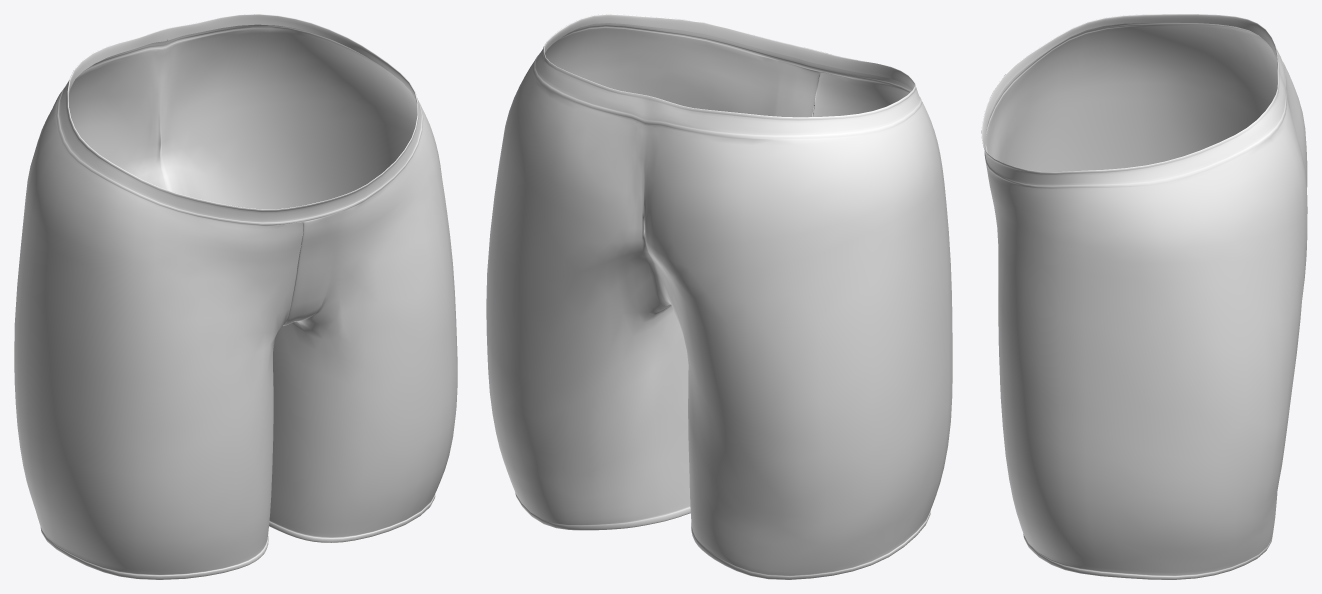
The model's file is Shorts.glb.
3 renders of one model, left to right at view 1: azimuth 30°, elevation 25°; view 2: azimuth 150°, elevation 25°; view 3: azimuth 270°, elevation 25°, orthographic. The views are drawn at different scales.
Parts seen in each view (by area): view 1: Boxers_for_Genesis.003; view 2: Boxers_for_Genesis.003; view 3: Boxers_for_Genesis.003.
Part boxes in pixels (x1,y1,x2,y2): Boxers_for_Genesis.003: [14, 14, 457, 579]; Boxers_for_Genesis.003: [486, 14, 952, 579]; Boxers_for_Genesis.003: [981, 14, 1307, 579].
Bounding box in the file's own units: 9.78 × 10.47 × 7.16.
Materials: 1 (1 with a texture image).
